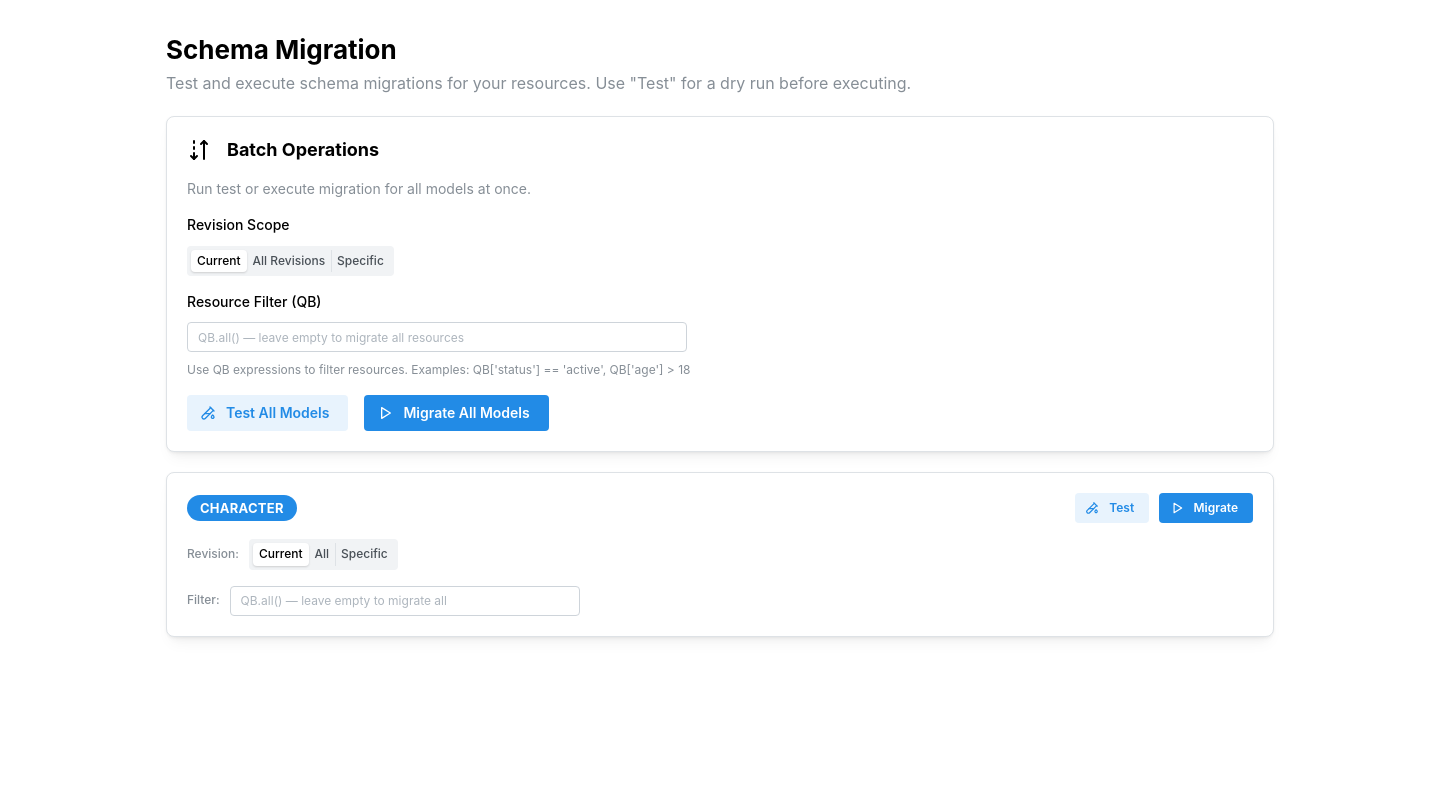
Test case: MigrationStatus › batch operations › shows success alert after Test All completes
Click the button "Test All Models" at [268, 413], box [187,395,348,431]
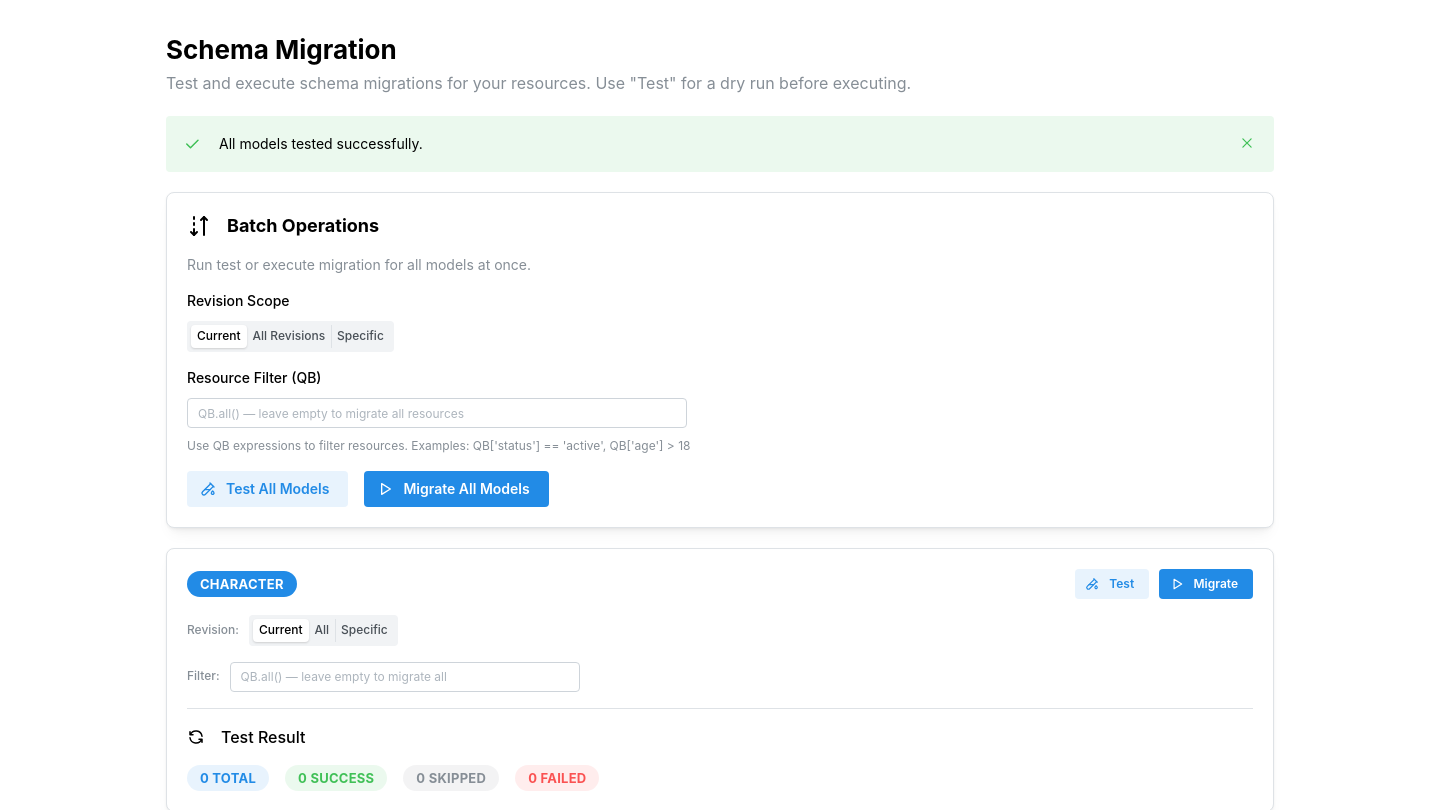
Expected: the text "All models tested successfully." is shown, [219,135,423,152]
